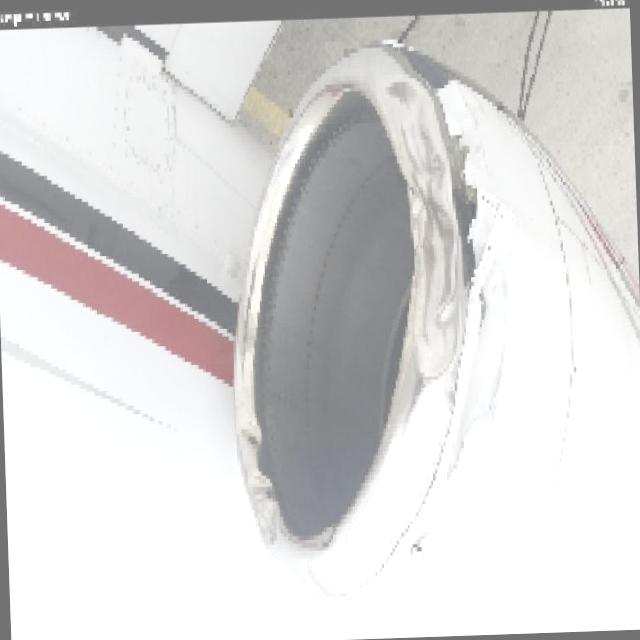dent: (382, 80, 464, 384), (342, 498, 412, 567)
